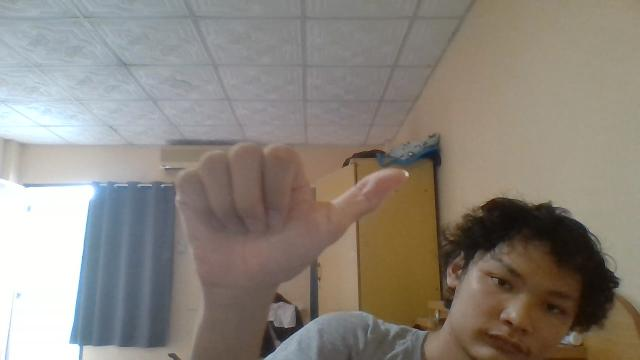left: (173, 141, 409, 293)
